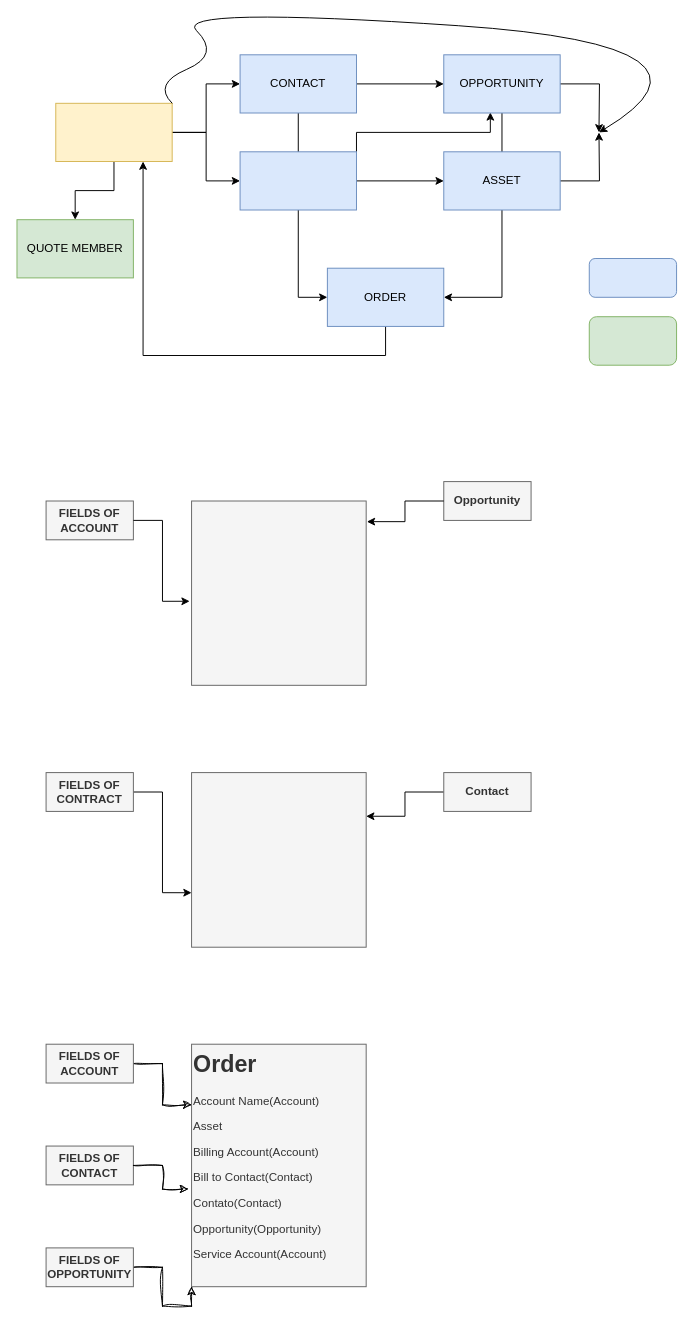
The diagram is 694 pixels wide and 1331 high, and some of its shapes have lost their labels. Here are the shapes that lost their labels. From the top down, the centre of each, then its label:
At (113,132): "ACCOUNT".
At (297,180): "CONTRACT".
At (632,277): "Relacionamento entre eles".
At (632,340): "Relacionamento apenas com Account".
At (278,592): "Asset Service Account Billing Account Contact Contract Opportunidade".
At (278,859): "Opportunity Frame Contract Originating Contract Contract Contract MSA Contact".
